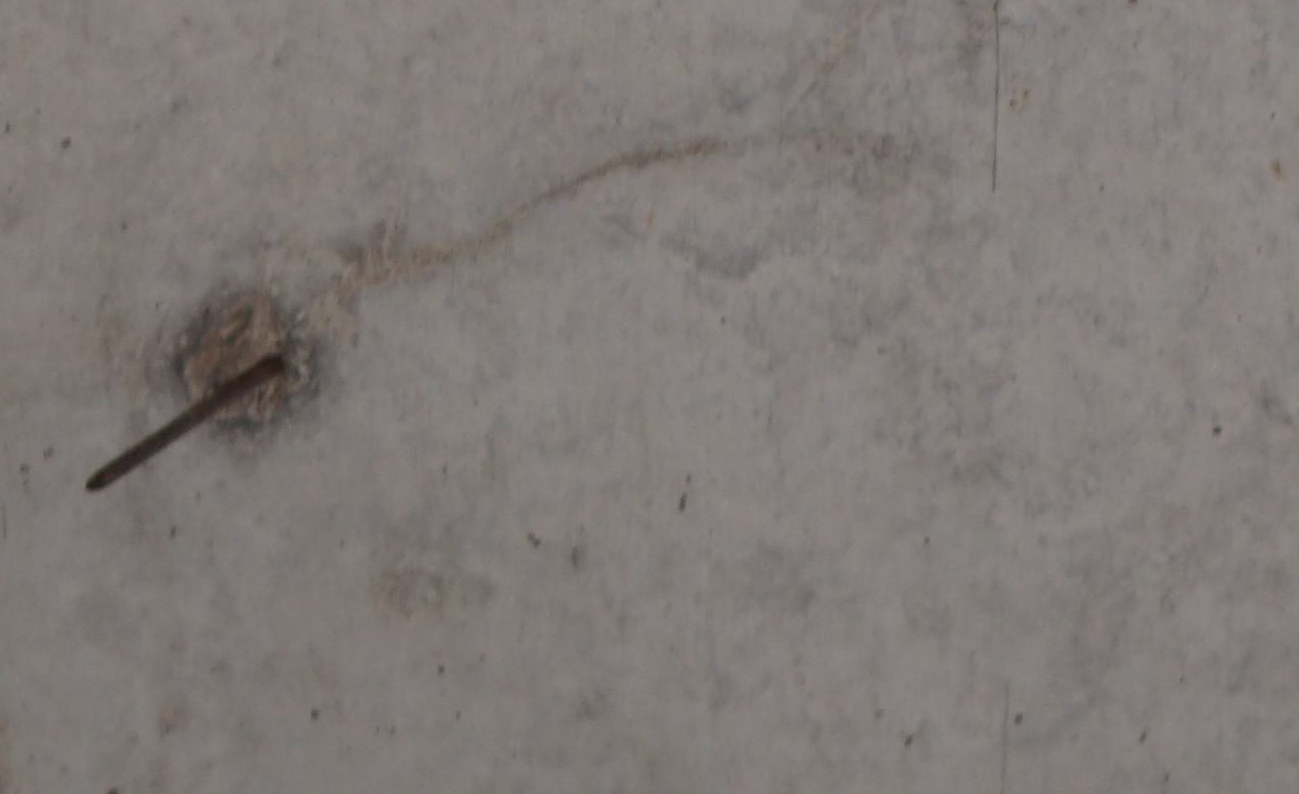Exposed reinforcement: (85, 355, 287, 492)
Spalling: (178, 288, 318, 429)
